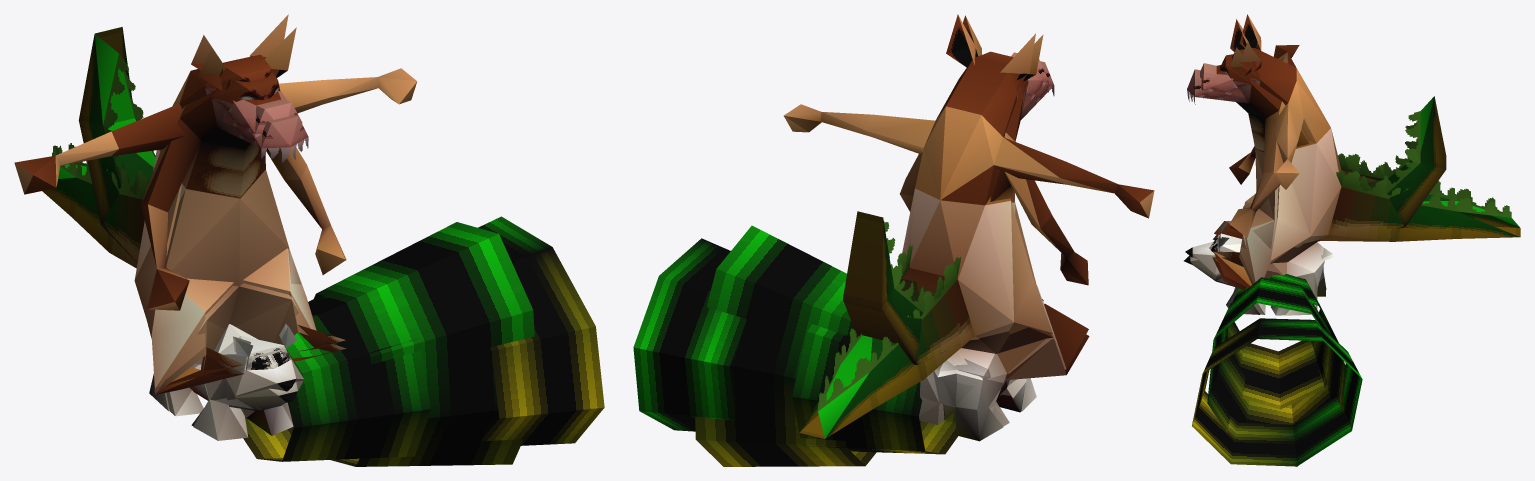
3 views of the same model, side by side, from view 1: azimuth 30°, elevation 25°; view 2: azimuth 150°, elevation 25°; view 3: azimuth 270°, elevation 25° (orthographic). The views are drawn at different scales.
Visible parts, largest first — view 1: part2, part1, part0; view 2: part0, part2, part1; view 3: part0, part2, part1.
Boxes of the visible parts, box(x1,y1,x2,y2) form: part2: box(243, 216, 604, 466); part1: box(78, 27, 346, 435); part0: box(14, 14, 417, 440); part0: box(783, 14, 1154, 438); part2: box(633, 225, 957, 466); part1: box(843, 15, 1089, 441); part0: box(1185, 14, 1520, 315); part2: box(1192, 274, 1362, 466); part1: box(1184, 19, 1446, 315).
Size of the model in its own units: 1.03 by 1 by 0.8691.
13 materials, 12 textured.
